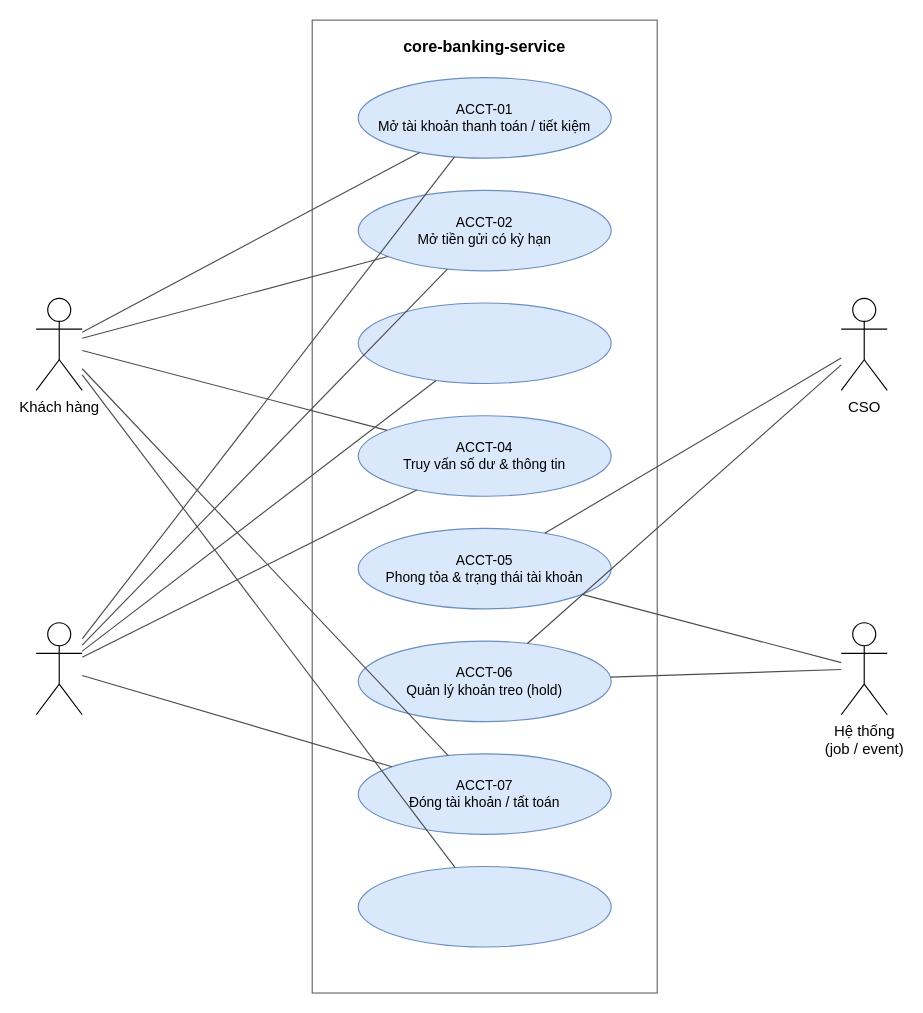
Some shapes in this 923 by 1013 pixel diagram are drawn without their labels. The centre of each missing label's shape, as x and y in pixels:
ACCT-03 Đồng chủ tài khoản & ủy quyền: (484,343)
ACCT-08 Sao kê & lịch sử giao dịch: (484,906)
Teller: (58,668)
